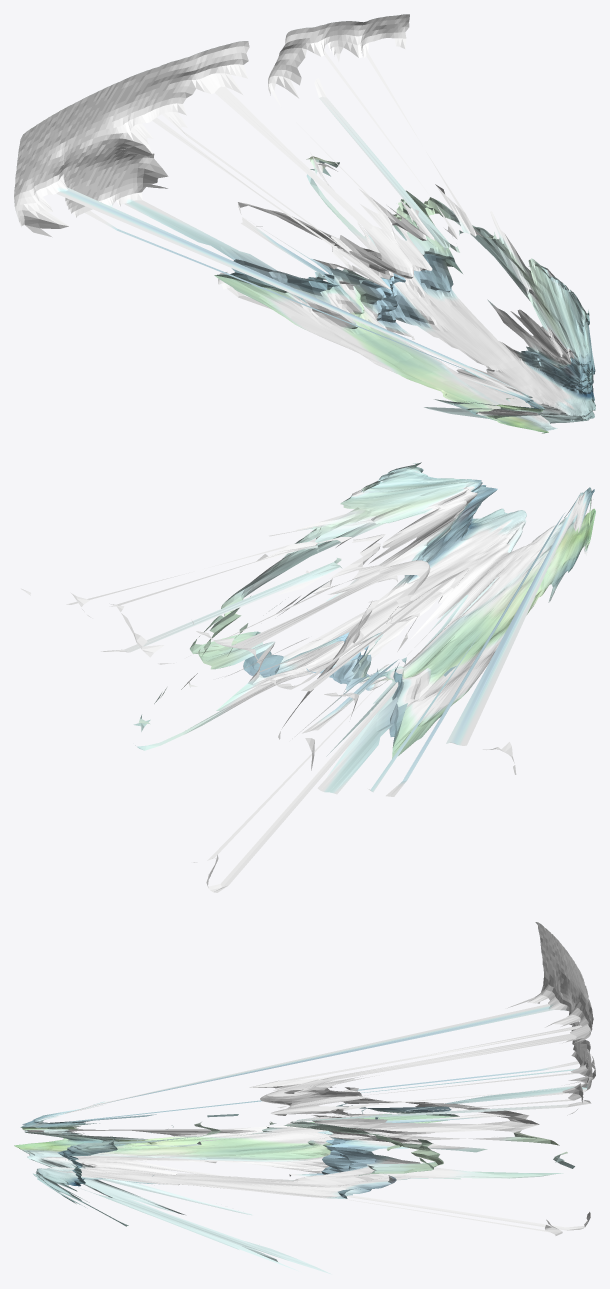
3 views of the same model, one above another, from view 1: azimuth 30°, elevation 25°; view 2: azimuth 150°, elevation 25°; view 3: azimuth 270°, elevation 25° (orthographic). The views are drawn at different scales.
Visible parts, largest first — view 1: defaultobject; view 2: defaultobject; view 3: defaultobject.
Part boxes in pixels (box(x1,y1,x2,y2)): defaultobject: box(14, 14, 595, 433); defaultobject: box(21, 462, 595, 892); defaultobject: box(14, 922, 595, 1274).
Size of the model in its own units: 32.34 by 20.05 by 44.39.
1 material, 1 textured.
